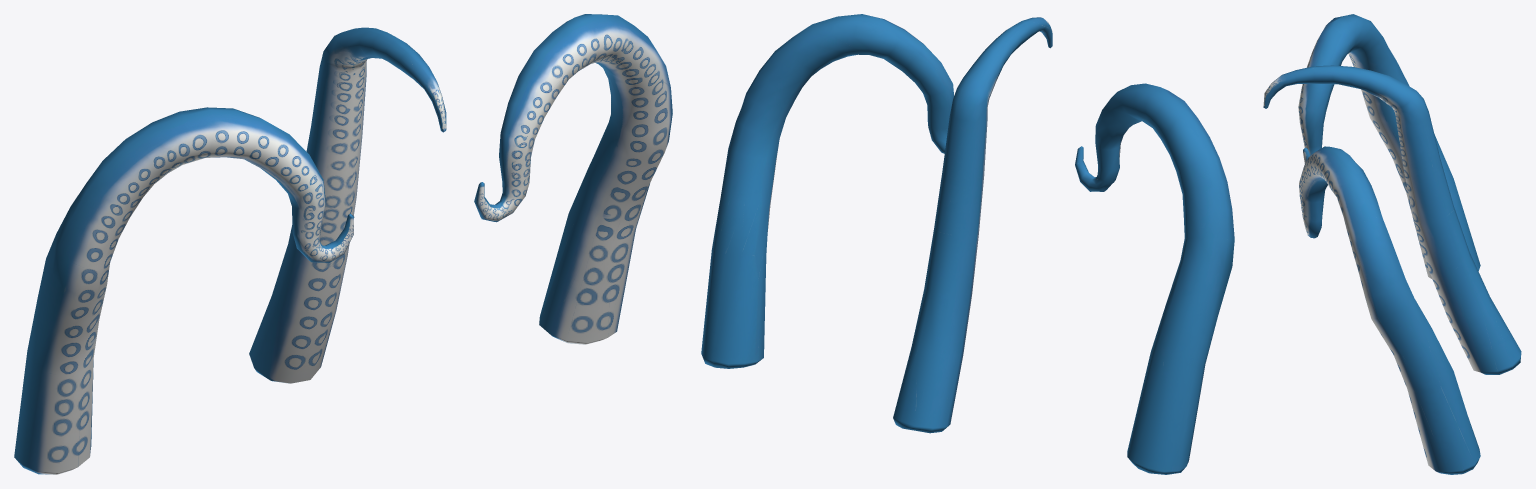
The model's file is Meshy_AI_Blue_Octopus_Tentacle_0913183028_texture.fbx.
The picture shows the model from 3 angles, left to right: view 1: azimuth 30°, elevation 25°; view 2: azimuth 150°, elevation 25°; view 3: azimuth 270°, elevation 25°; orthographic projection. The views are drawn at different scales.
Visible parts, largest first — view 1: Mesh_0; view 2: Mesh_0; view 3: Mesh_0.
Part boxes in pixels (bbox=[...]): Mesh_0: bbox=[14, 14, 672, 474]; Mesh_0: bbox=[701, 14, 1234, 474]; Mesh_0: bbox=[1263, 14, 1521, 474].
Bounding box in the file's own units: 100 × 66.21 × 50.59.
Materials: 1 (1 with a texture image).
